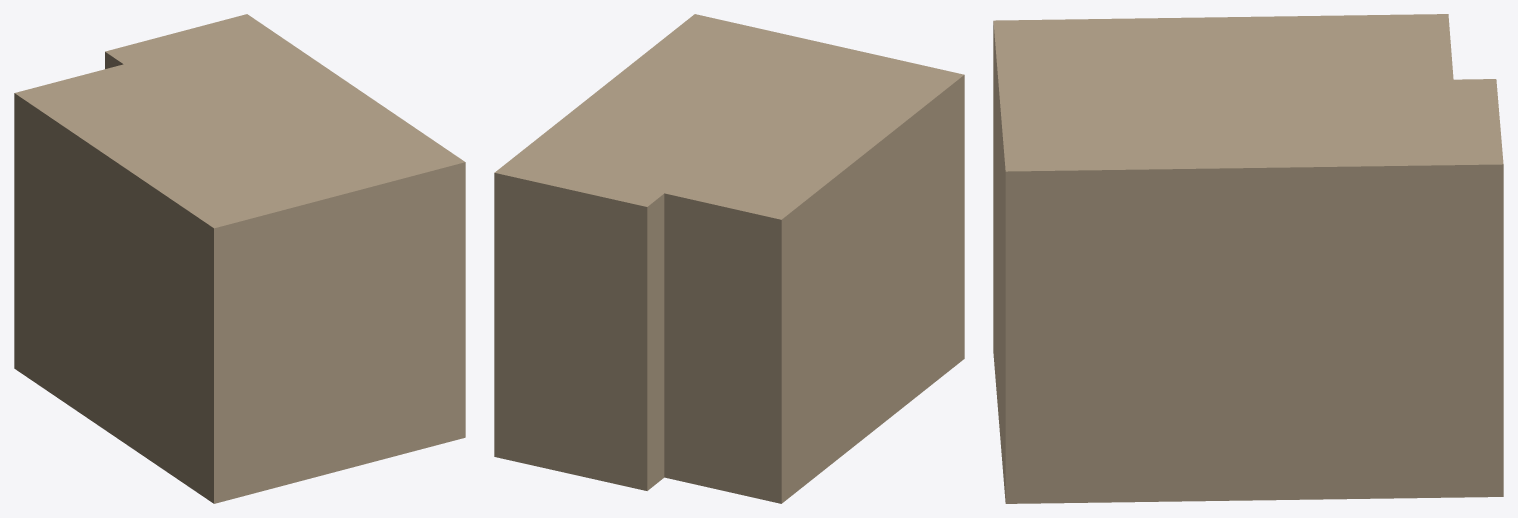
The model's file is bld_99739258.dae.
3 views of the same model, side by side, from view 1: azimuth 30°, elevation 25°; view 2: azimuth 150°, elevation 25°; view 3: azimuth 270°, elevation 25° (orthographic). The views are drawn at different scales.
Parts seen in each view (by area): view 1: bld_99739258; view 2: bld_99739258; view 3: bld_99739258.
Boxes of the visible parts, x1,y1,x2,y2 form: bld_99739258: [14, 14, 465, 503]; bld_99739258: [494, 14, 964, 503]; bld_99739258: [993, 14, 1503, 503].
Size of the model in its own units: 8.13 by 11.12 by 8.
